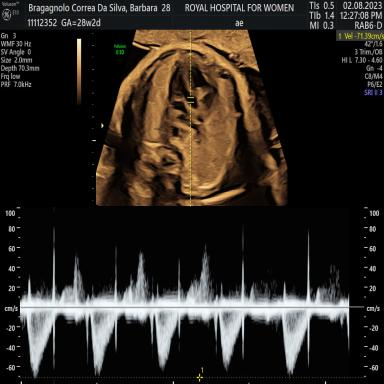Ultrasound-Waves: (27, 215, 349, 377)
